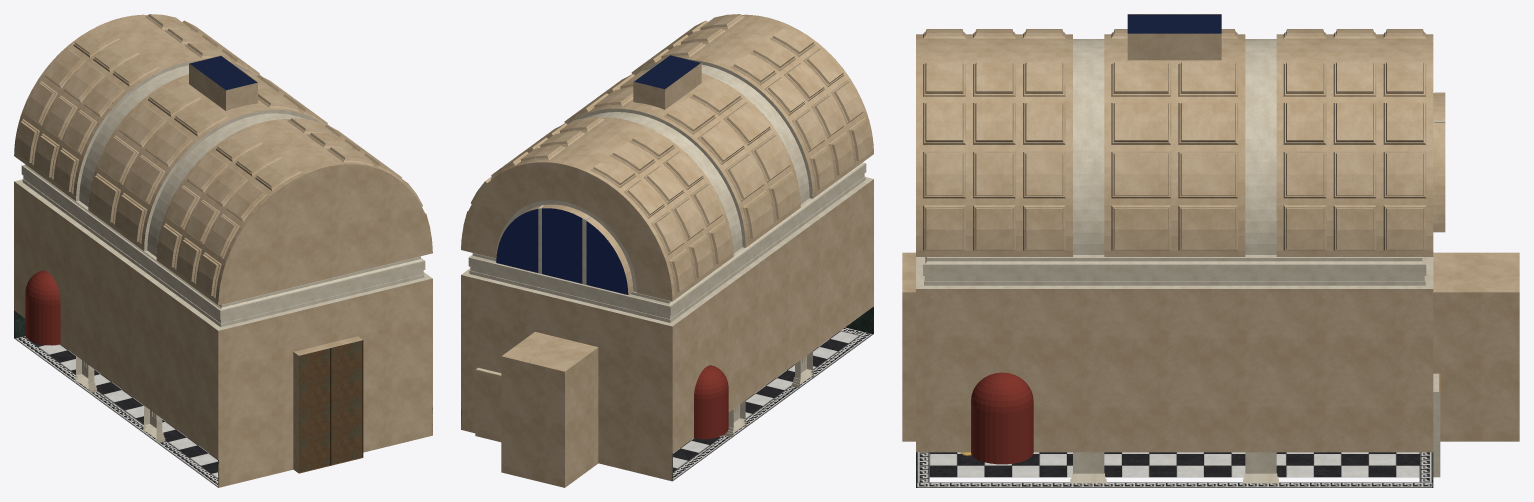
The model's file is sala.glb.
3 views of the same model, side by side, from view 1: azimuth 30°, elevation 25°; view 2: azimuth 150°, elevation 25°; view 3: azimuth 270°, elevation 25° (orthographic). The views are drawn at different scales.
Parts seen in each view (by area): view 1: muros, boveda, puertas, suelo, emisivos; view 2: muros, boveda, emisivos, suelo; view 3: muros, boveda, suelo, emisivos.
Boxes of the visible parts, x1,y1,x2,y2 form: muros: (14,15,432,487); boveda: (14,14,432,304); puertas: (299,340,363,473); suelo: (15,336,217,487); emisivos: (111,56,256,109); muros: (461,15,873,487); boveda: (461,14,873,301); emisivos: (496,55,700,294); suelo: (673,327,872,480); muros: (902,92,1519,487); boveda: (916,14,1433,256); suelo: (917,452,1432,487); emisivos: (1127,14,1221,33).
Bounding box in the file's own units: 9.44 × 11.2 × 15.75.
Materials: 24 (8 with a texture image).
